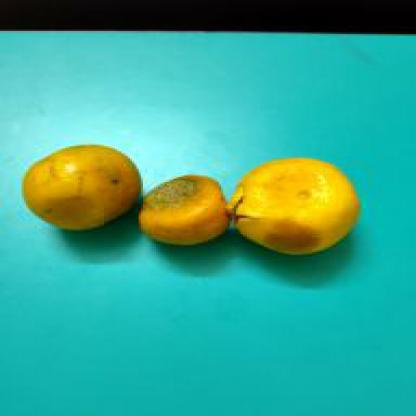orange_rotten: (223, 156, 360, 255), (17, 144, 141, 235), (136, 172, 230, 247)
